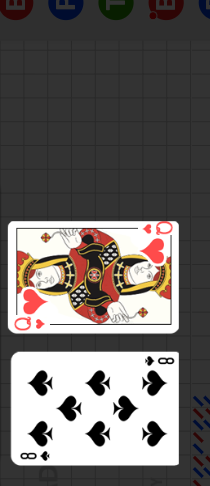8S: (142, 355, 176, 368)
9H: (141, 221, 175, 237)
